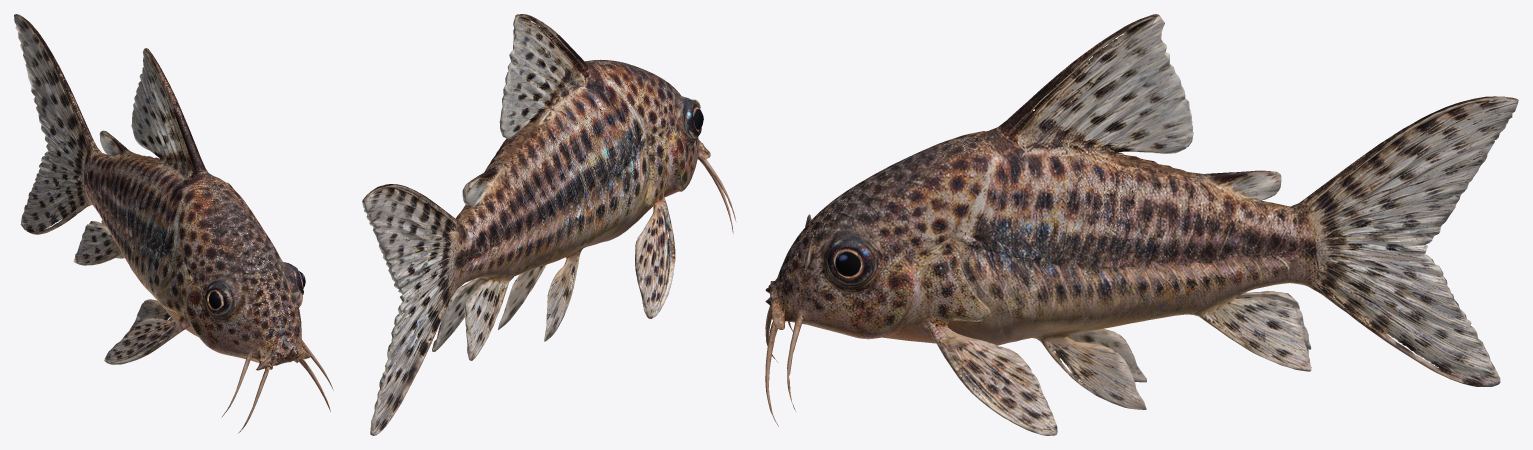
File: cory.glb
The picture shows the model from 3 angles, left to right: view 1: azimuth 30°, elevation 25°; view 2: azimuth 150°, elevation 25°; view 3: azimuth 270°, elevation 25°; orthographic projection. The views are drawn at different scales.
Visible parts, largest first — view 1: Body; view 2: Body; view 3: Body.
Part boxes in pixels (x1=…): Body: x1=14, y1=14, x2=333, y2=433; Body: x1=362, y1=14, x2=736, y2=435; Body: x1=765, y1=14, x2=1518, y2=435.
Size of the model in its own units: 0.176 by 0.2958 by 0.5287.
Materials: 1 (1 with a texture image).
